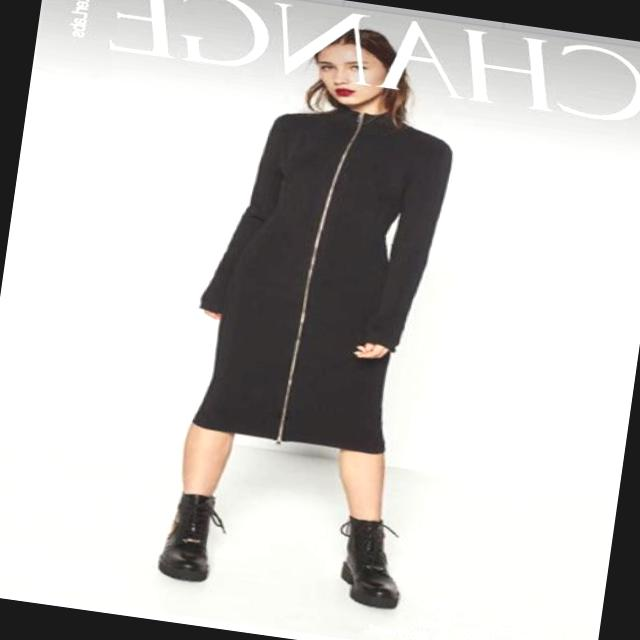dress: (182, 91, 458, 460)
